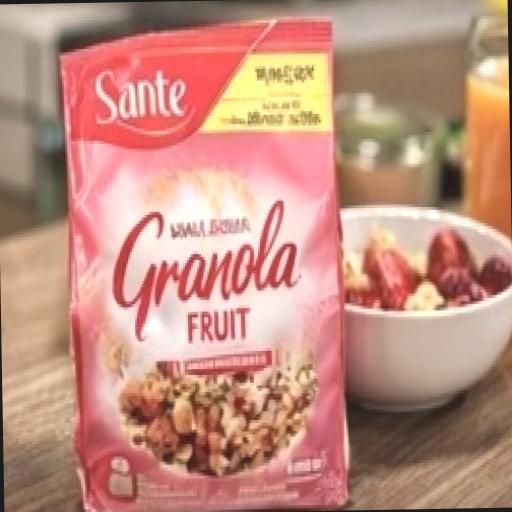granola: (46, 3, 429, 512)
